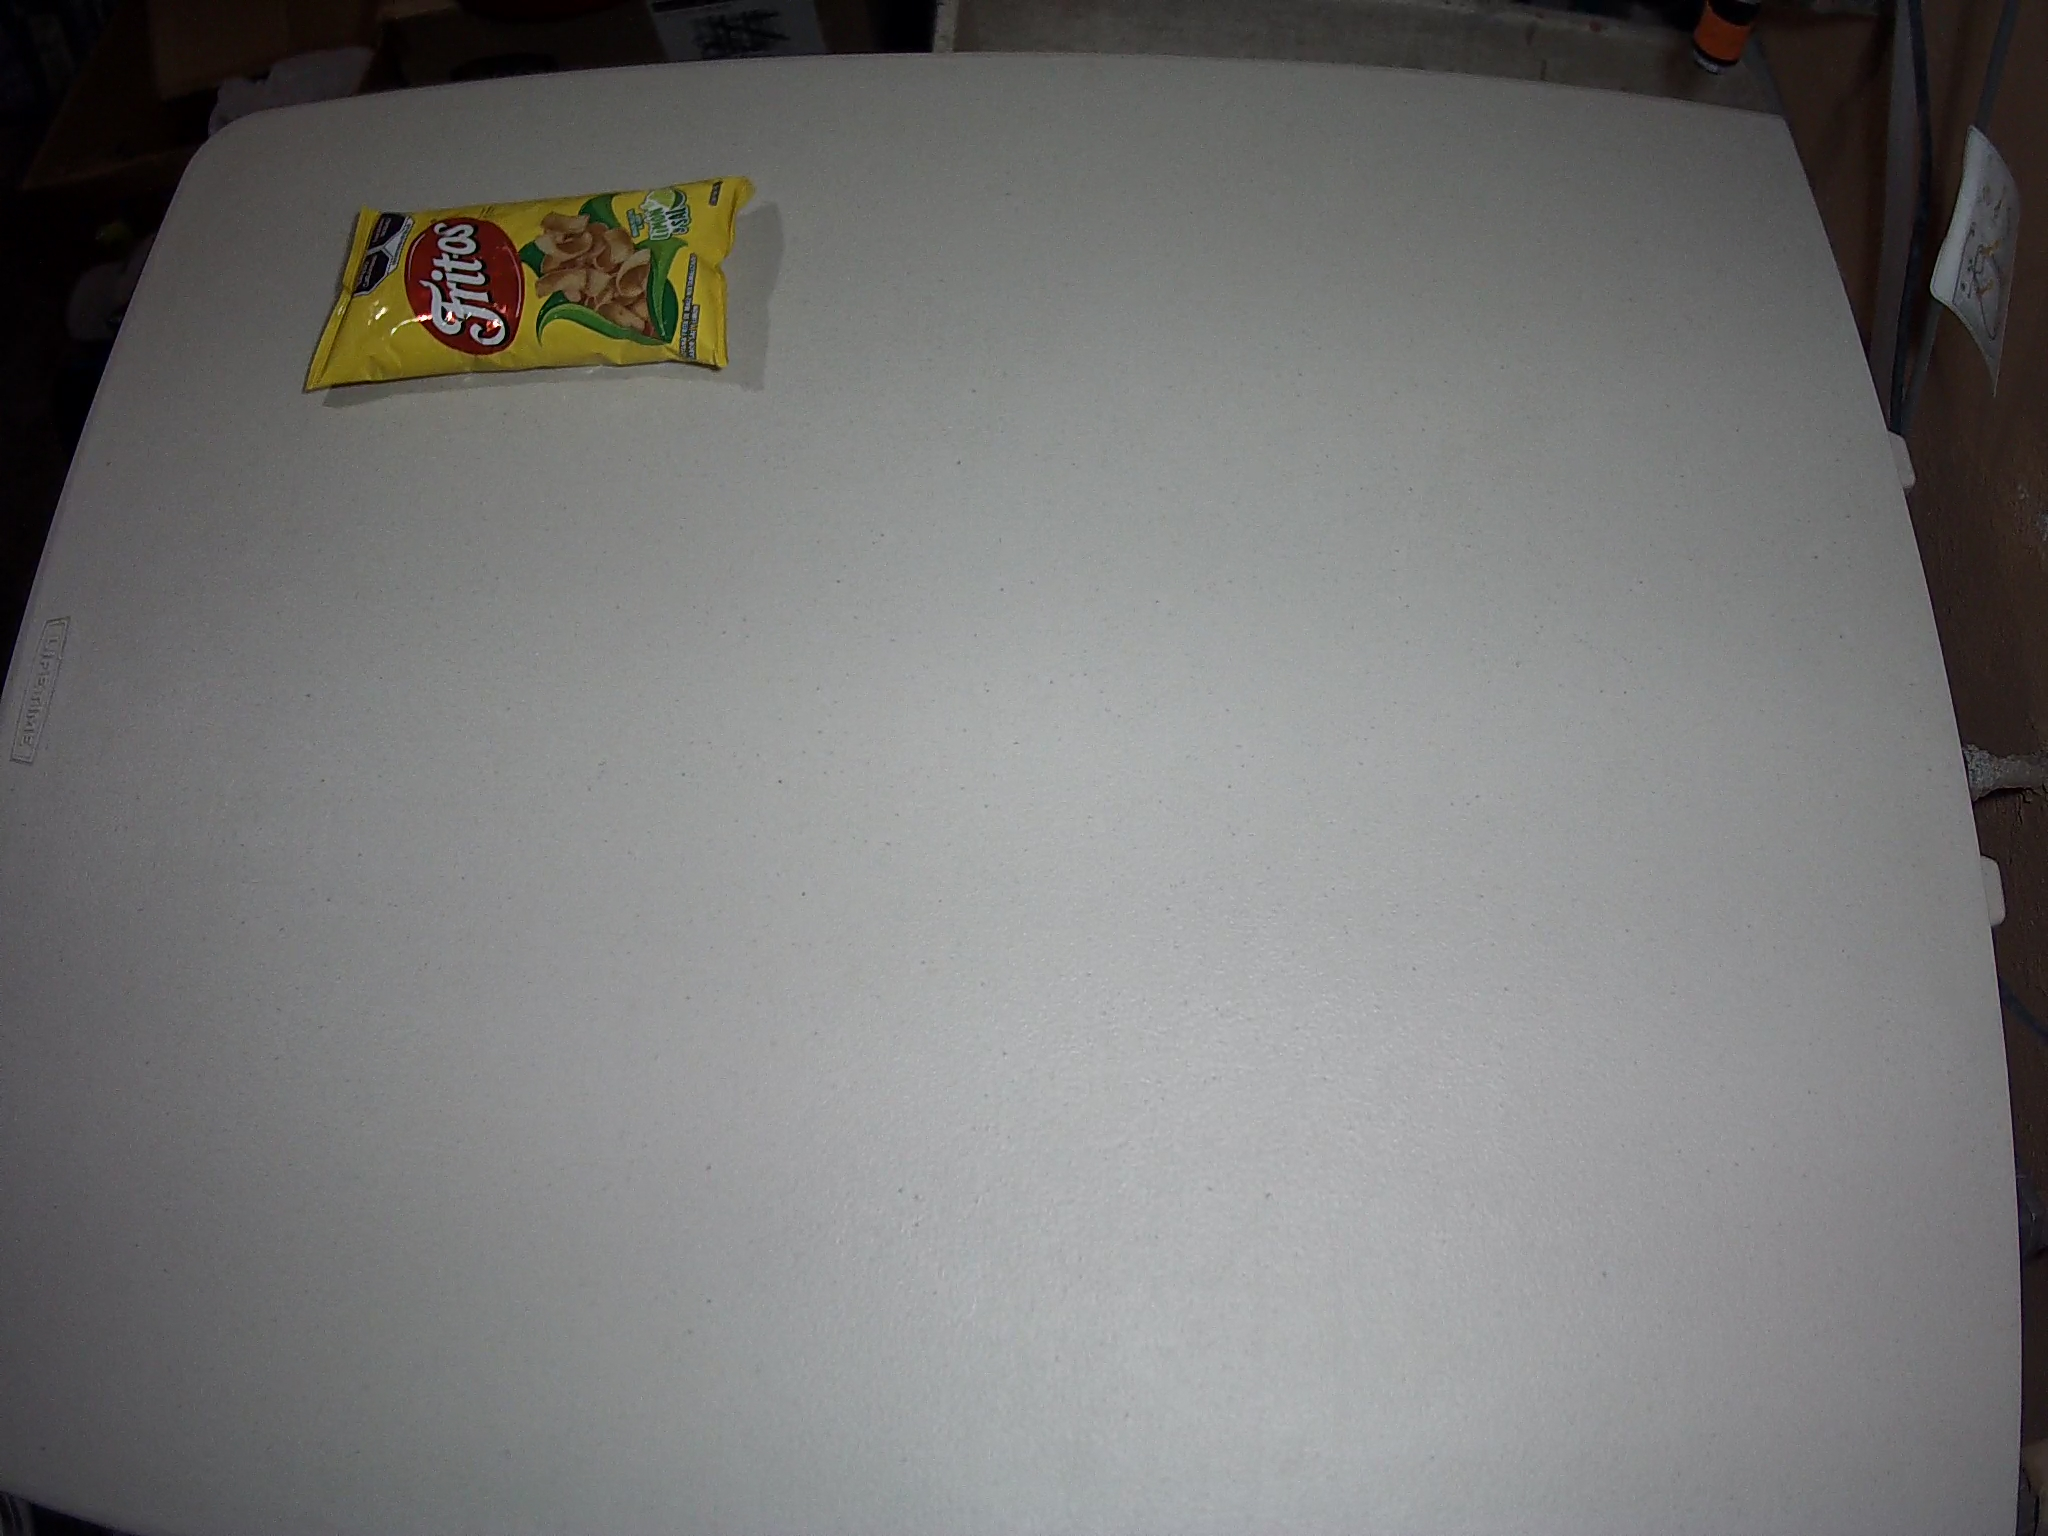FritosSalLimon_65_F: (305, 171, 755, 394)
